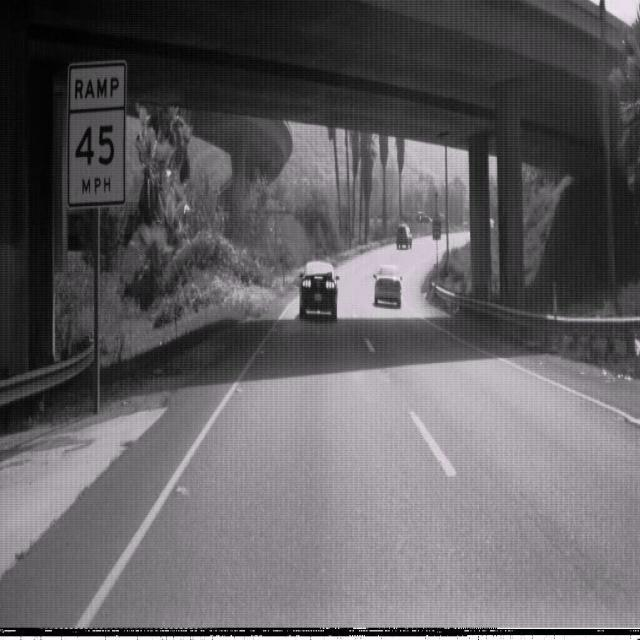speedLimit45: (65, 58, 127, 211)
